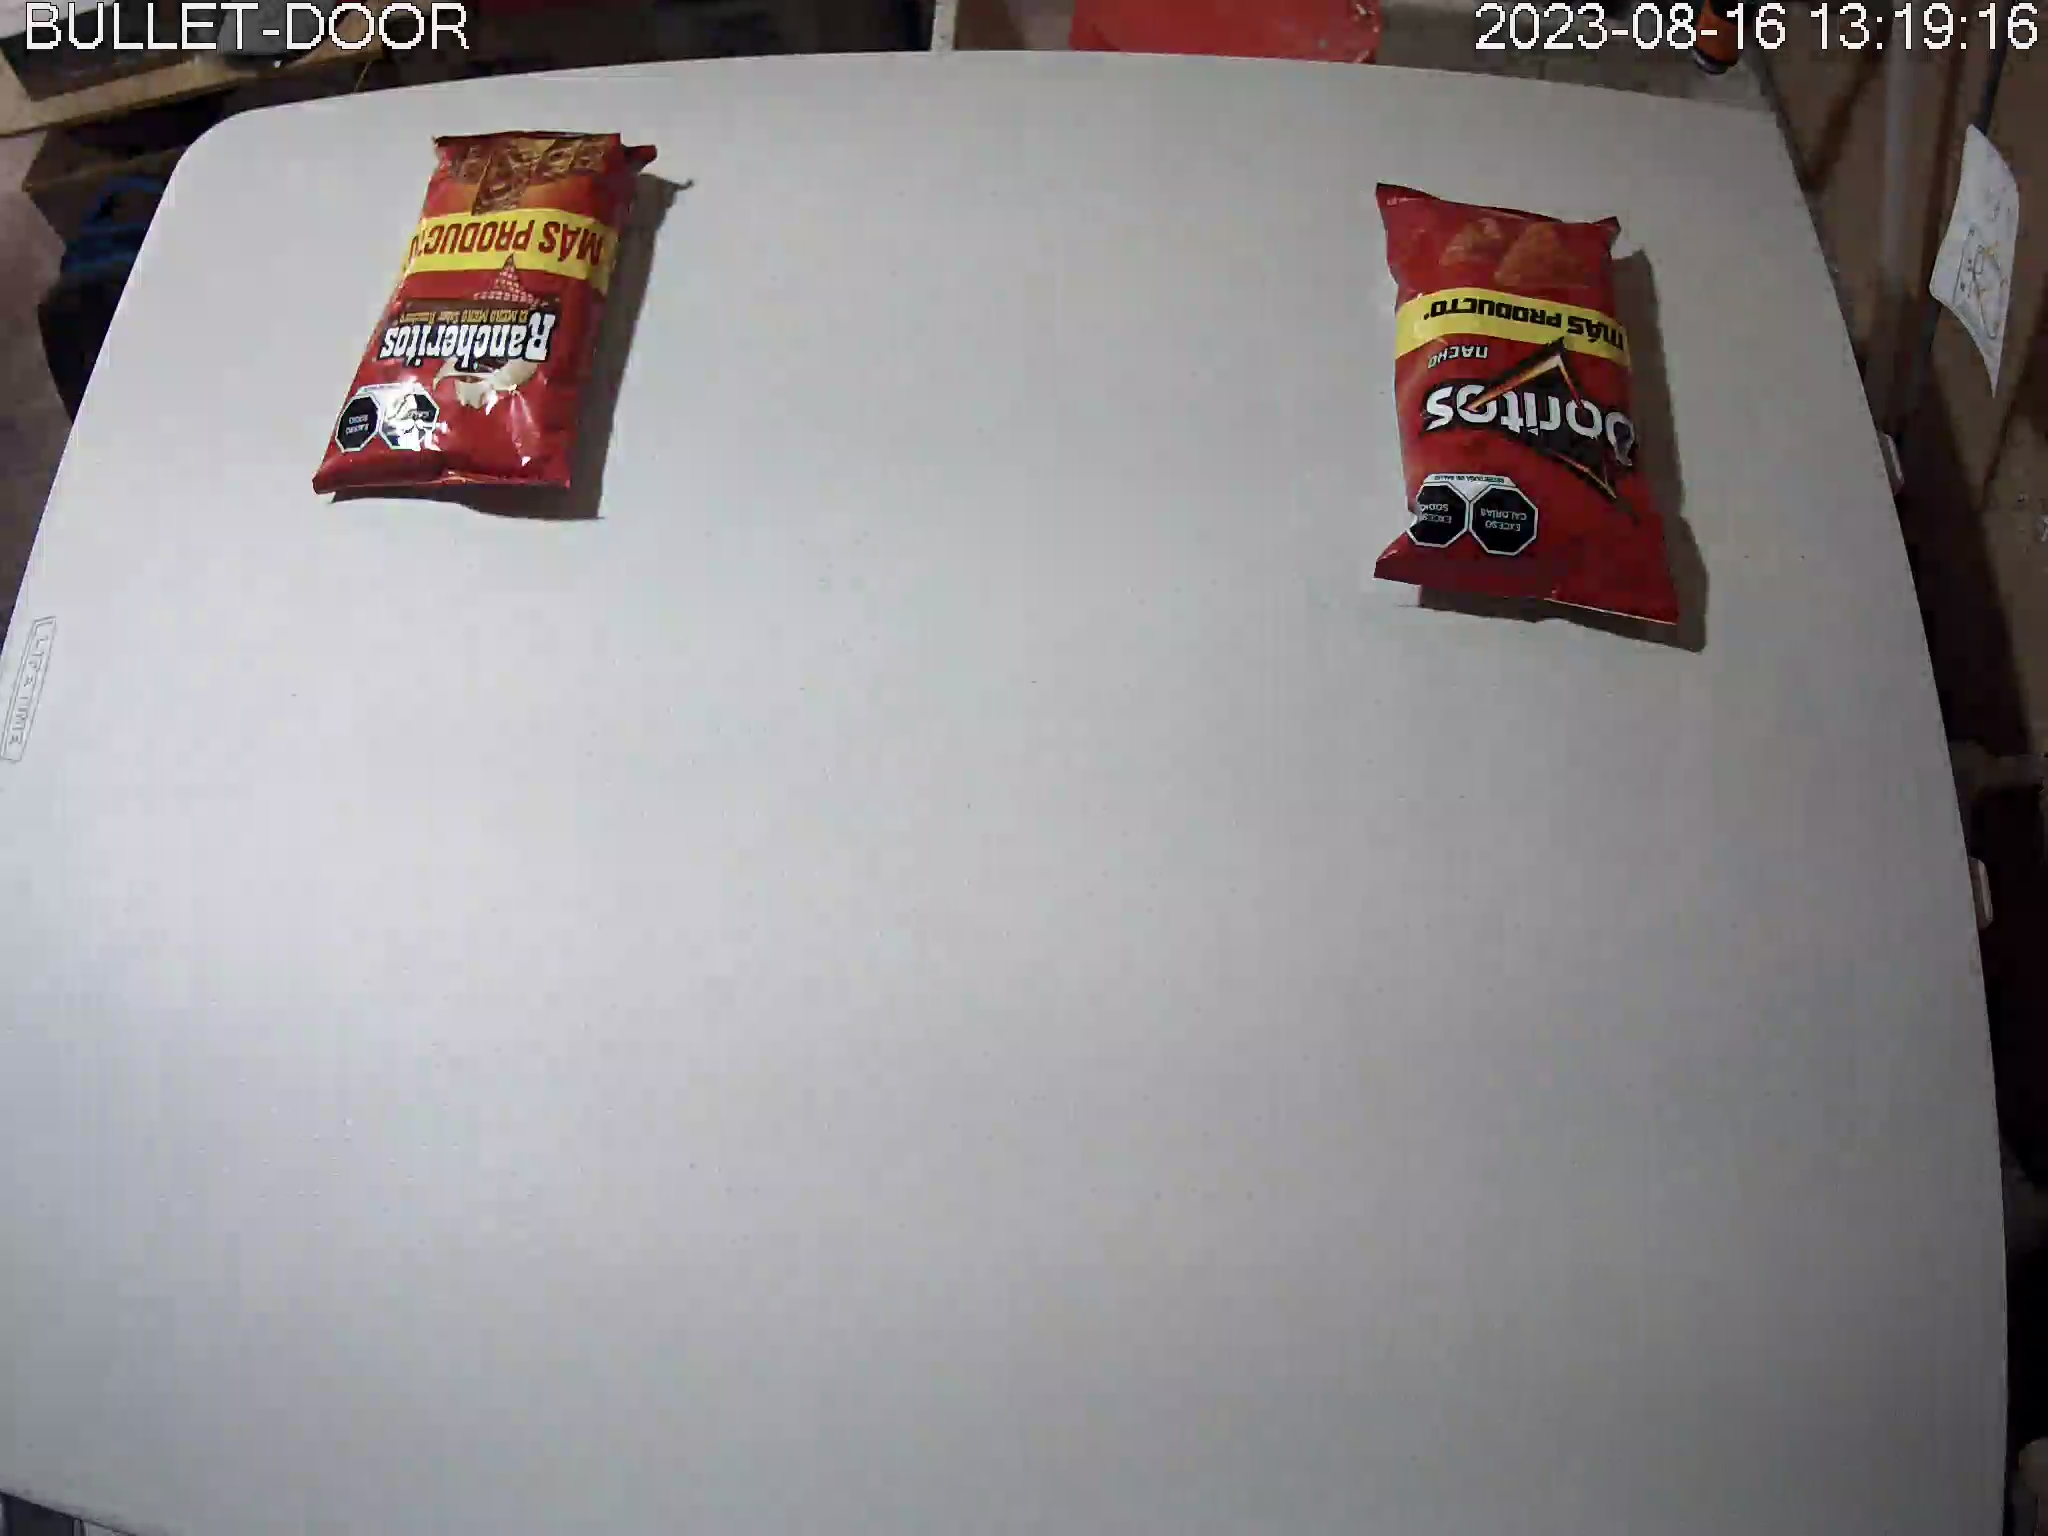DoritosN_61_F: (1372, 176, 1687, 637)
Rancheritos_58_F: (311, 131, 660, 494)
